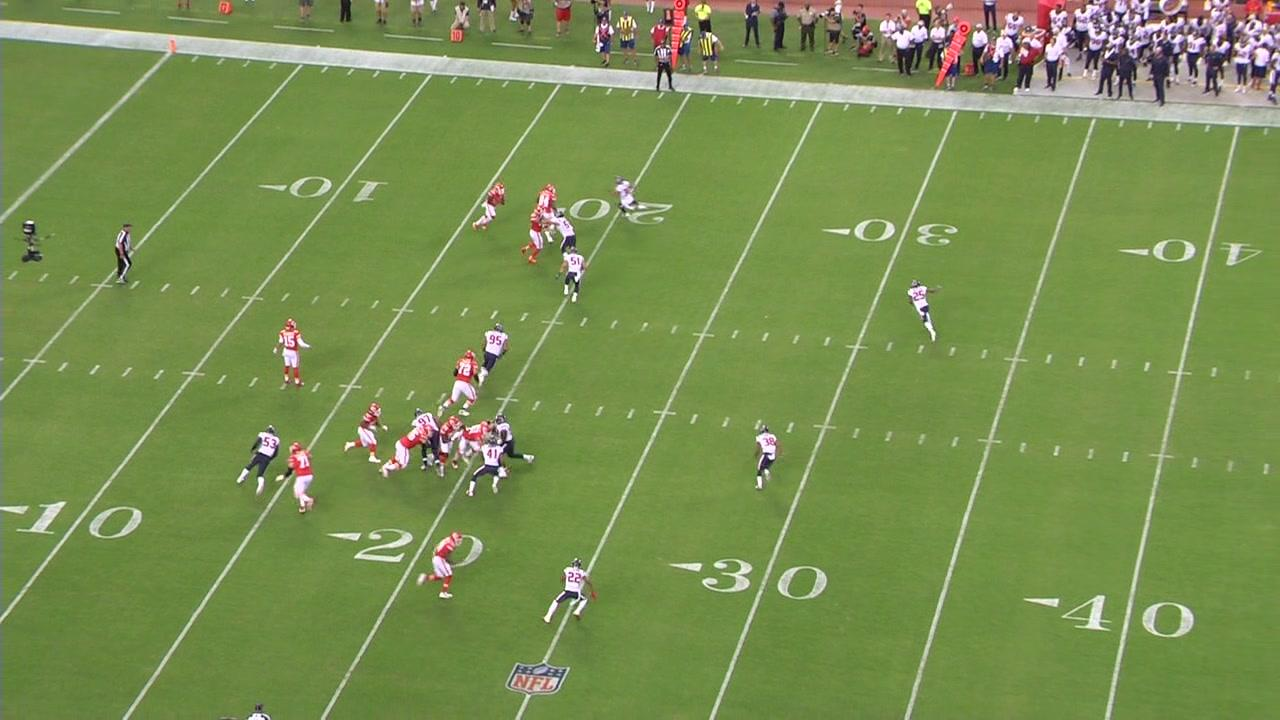five_hash: (652, 408, 679, 418), (812, 422, 839, 432), (20, 357, 48, 366), (493, 396, 521, 405), (241, 293, 266, 303), (1166, 369, 1193, 378), (338, 383, 364, 392), (1149, 453, 1175, 461), (691, 331, 716, 339), (90, 281, 114, 289), (392, 307, 416, 315), (541, 319, 564, 327), (181, 371, 207, 378), (1003, 357, 1029, 364), (977, 438, 1003, 444), (846, 344, 869, 350)
hash: (213, 372, 230, 389), (913, 431, 929, 449), (402, 386, 418, 404), (1224, 458, 1240, 475), (880, 428, 896, 445), (307, 380, 324, 396), (151, 367, 167, 384), (119, 363, 136, 379), (1241, 366, 1257, 381), (1049, 442, 1064, 458), (1207, 366, 1224, 380), (1119, 447, 1132, 465), (7, 268, 22, 283), (67, 273, 82, 288), (718, 414, 733, 429), (1042, 353, 1056, 369), (687, 411, 701, 427), (373, 384, 387, 400), (86, 363, 102, 377), (55, 360, 71, 374), (159, 280, 173, 295), (186, 283, 201, 297), (666, 323, 681, 337), (820, 335, 835, 349), (945, 343, 959, 358), (1075, 355, 1089, 370), (1257, 462, 1272, 476), (246, 376, 261, 390), (949, 434, 962, 450), (38, 271, 52, 285), (1016, 439, 1030, 453), (849, 426, 863, 440), (623, 407, 637, 421), (309, 292, 322, 307), (487, 307, 500, 322), (1189, 455, 1202, 470), (783, 420, 796, 435), (338, 295, 351, 309), (606, 318, 620, 331), (730, 329, 744, 342), (884, 340, 897, 354), (1141, 359, 1154, 373), (1085, 447, 1098, 461), (593, 405, 607, 418), (561, 402, 575, 415), (530, 399, 543, 413), (128, 279, 141, 292), (369, 298, 382, 311), (459, 305, 472, 318), (1108, 358, 1121, 371), (577, 317, 591, 329), (790, 333, 804, 345), (218, 286, 231, 298), (278, 291, 291, 303), (428, 305, 441, 317), (638, 321, 650, 333), (759, 330, 771, 342), (977, 348, 989, 360), (519, 311, 530, 324), (916, 343, 927, 355), (754, 418, 763, 432)
marker: (931, 23, 969, 86), (670, 0, 685, 72)
number: (700, 550, 833, 606), (1059, 590, 1199, 642), (14, 498, 147, 542), (1150, 235, 1265, 270), (851, 216, 962, 252), (567, 196, 676, 232), (287, 172, 392, 209)
